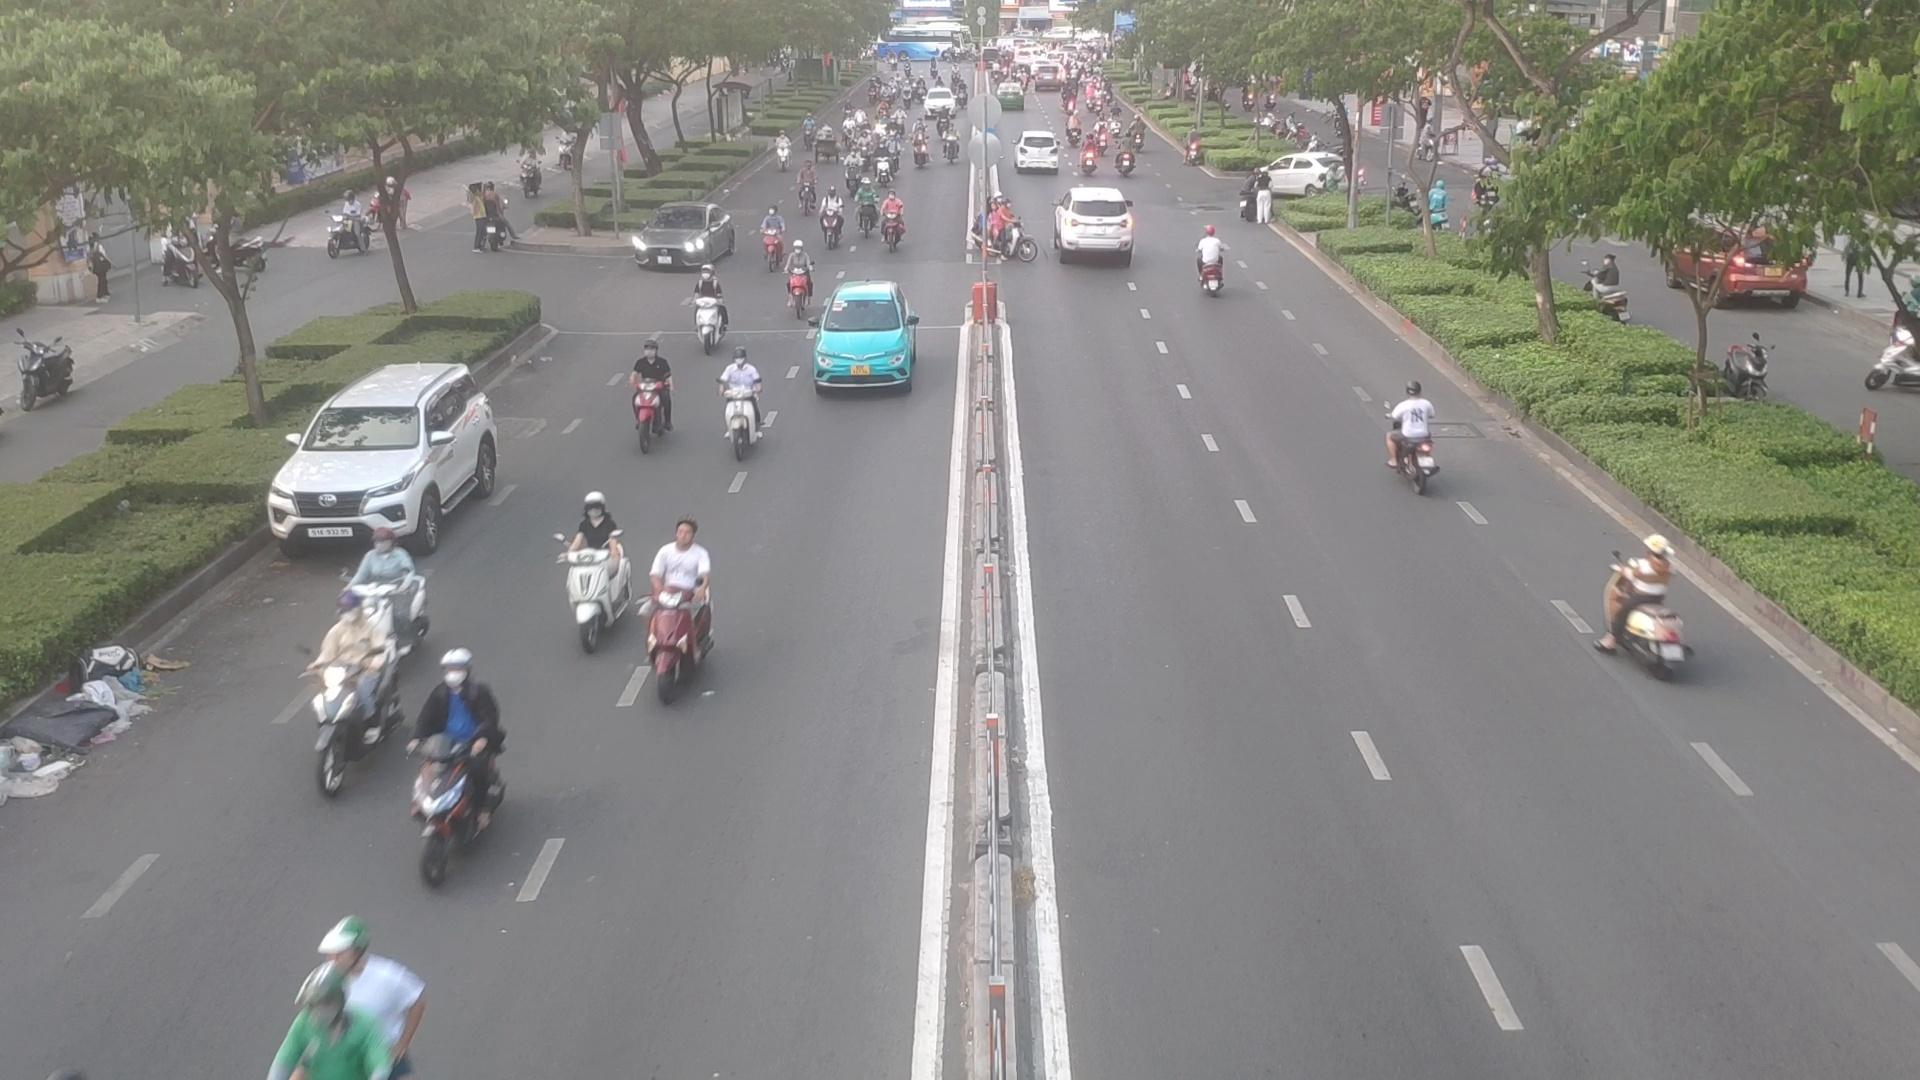car: (265, 364, 504, 556), (808, 277, 913, 393), (626, 203, 738, 272), (1059, 185, 1145, 258), (1011, 133, 1062, 173)
motorbike: (407, 636, 522, 870), (632, 534, 742, 696), (1593, 530, 1693, 680), (345, 504, 425, 674), (301, 626, 382, 786), (564, 501, 626, 651), (622, 334, 684, 456), (1393, 381, 1439, 512), (731, 349, 769, 454), (990, 206, 1040, 262), (698, 268, 731, 351), (1201, 233, 1234, 293), (761, 200, 789, 269), (793, 243, 814, 314), (1079, 133, 1106, 181), (881, 183, 901, 248), (771, 127, 796, 175), (822, 186, 841, 245), (799, 160, 816, 218), (911, 131, 932, 175), (844, 146, 862, 190), (853, 132, 872, 171), (874, 142, 890, 187), (857, 174, 869, 232), (1118, 133, 1131, 179)
